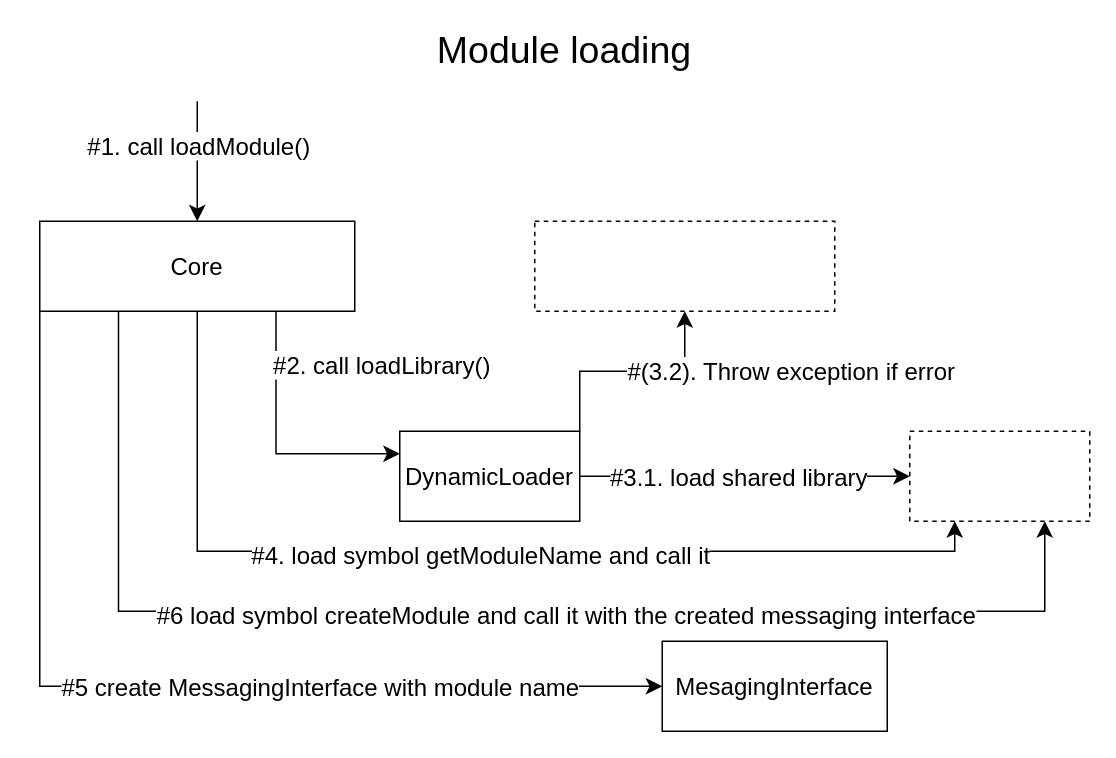
The diagram is 1116 pixels wide and 758 high, and some of its shapes have lost their labels. Each missing label, with the box of its shape:
DynamicLoaderExceptions: (533, 220, 835, 311)
Modules: (908, 430, 1090, 521)
